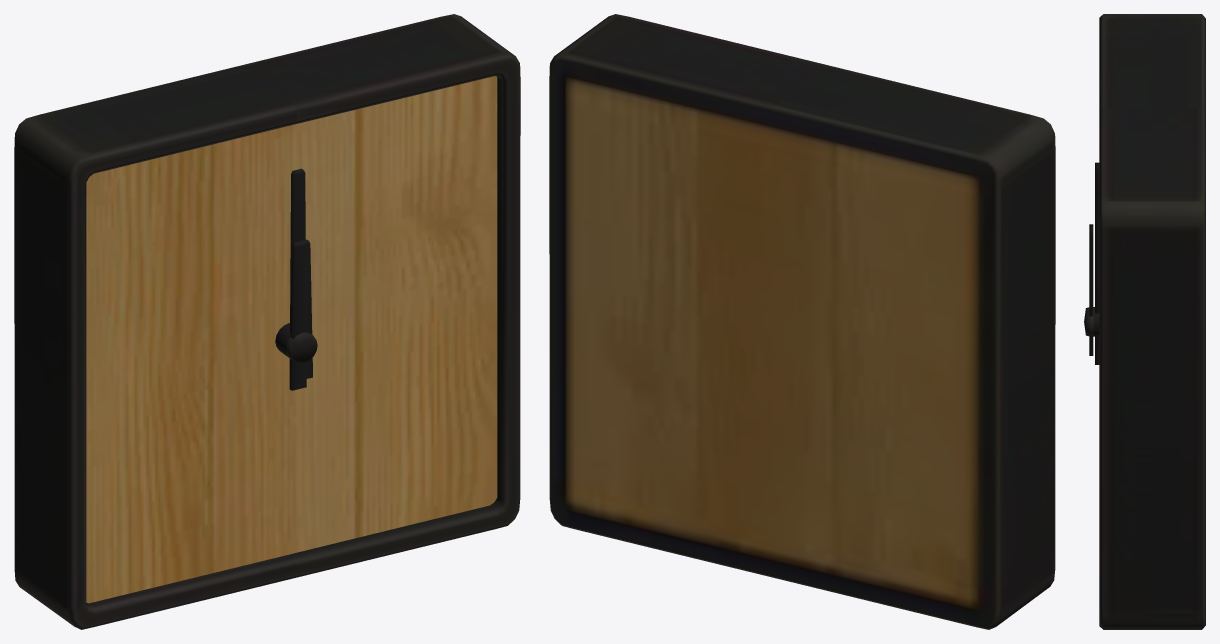
The picture shows the model from 3 angles, left to right: view 1: azimuth 30°, elevation 25°; view 2: azimuth 150°, elevation 25°; view 3: azimuth 270°, elevation 25°; orthographic projection. The views are drawn at different scales.
Size of the model in its own units: 6.23 by 6.23 by 1.61.
Materials: 1 (1 with a texture image).
